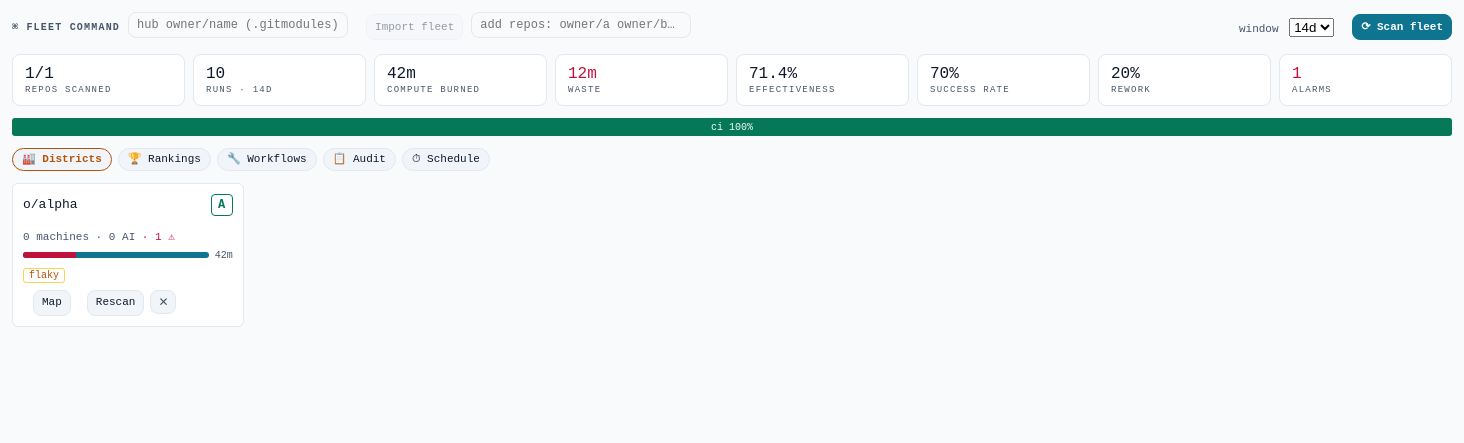
Test: FleetOpsPanel › switches to Rankings and lists the offender row with its signals
This screenshot has width=1464, height=443.
Click the button "🏆 Rankings".
click(164, 159)  # box x1=118 y1=148 x2=211 y2=170
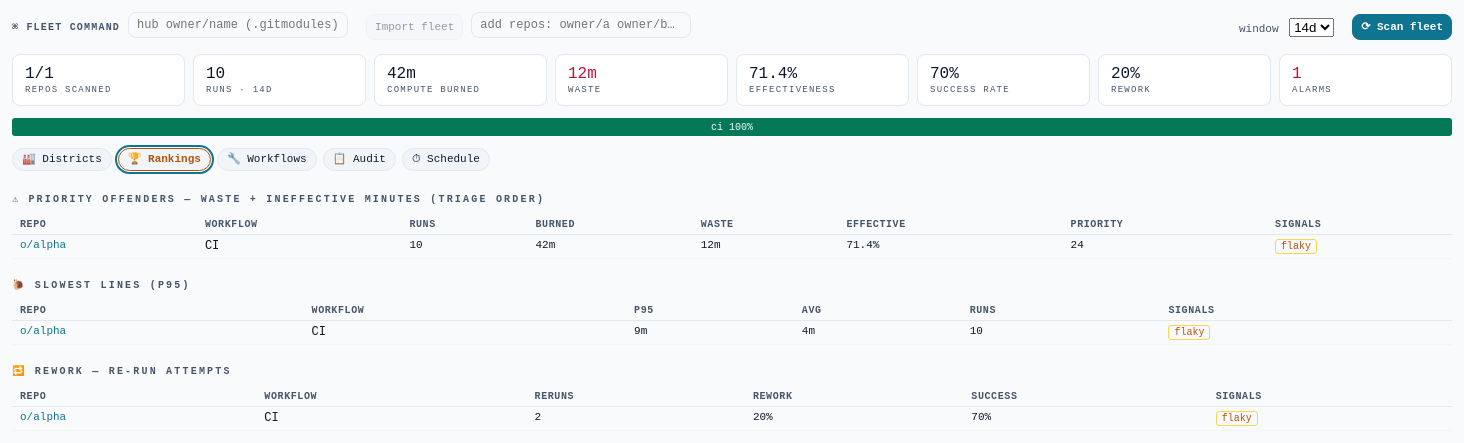
Expected: the text "flaky" in the row of "24" is shown, x1=1281 y1=240 x2=1311 y2=252
Expected: the heading "Priority offenders" is shown, x1=12 y1=194 x2=545 y2=204
